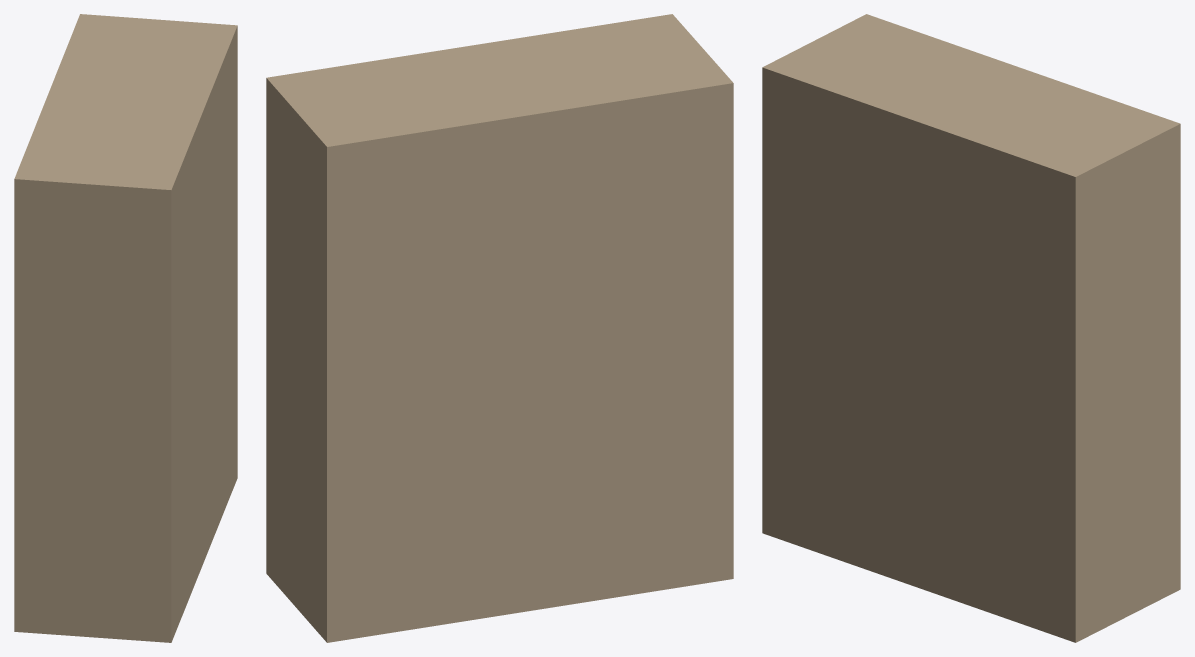
Rendered from bld_99615883.dae.
3 renders of one model, left to right at view 1: azimuth 30°, elevation 25°; view 2: azimuth 150°, elevation 25°; view 3: azimuth 270°, elevation 25°, orthographic. The views are drawn at different scales.
Parts seen in each view (by area): view 1: bld_99615883; view 2: bld_99615883; view 3: bld_99615883.
Part boxes in pixels (left/top/right/bottom): bld_99615883: left=14, top=14, right=237, bottom=642; bld_99615883: left=266, top=14, right=733, bottom=642; bld_99615883: left=762, top=14, right=1180, bottom=642.
Size of the model in its own units: 6.01 by 6.51 by 8.
